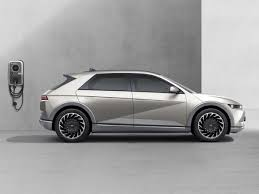Honda Ioniq: (38, 70, 249, 152)
